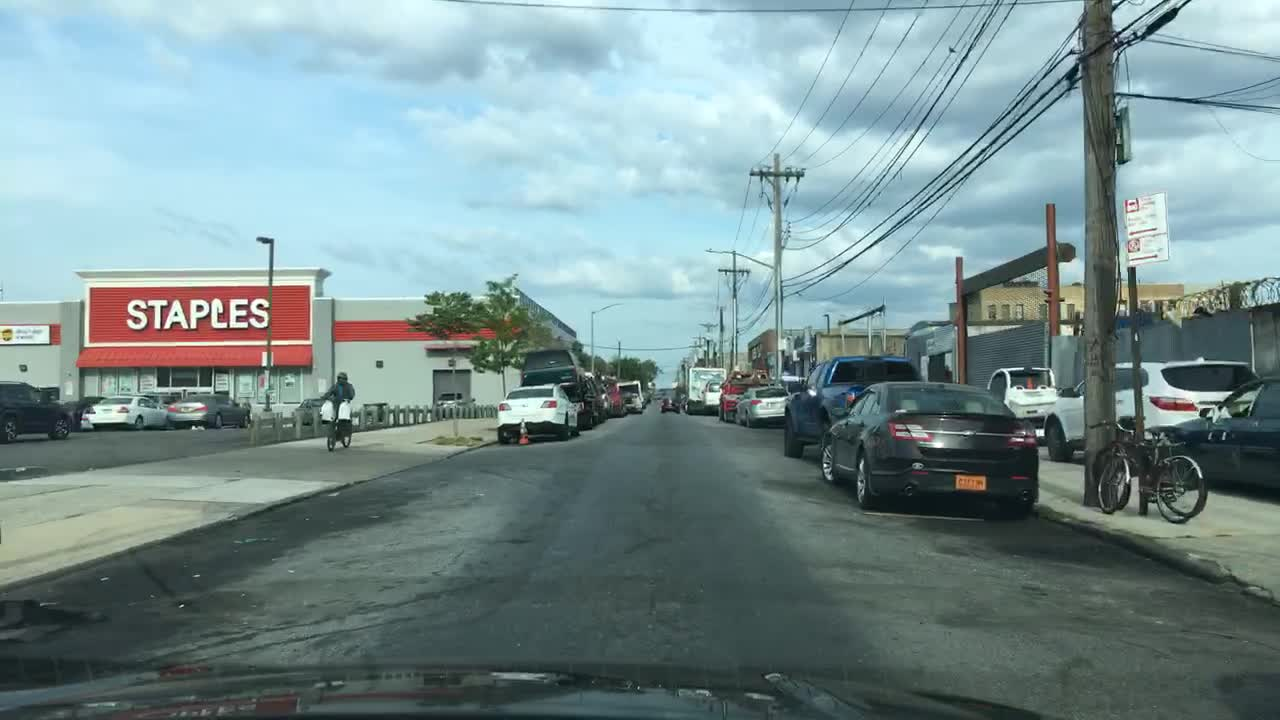bike: (1098, 418, 1211, 522), (1086, 417, 1198, 497), (323, 396, 356, 450)
car: (820, 380, 1043, 522), (1041, 357, 1261, 462), (1137, 376, 1278, 487), (781, 353, 925, 460), (987, 364, 1059, 438), (495, 383, 577, 442), (0, 381, 78, 443), (78, 393, 171, 431), (167, 388, 251, 430), (516, 346, 588, 391), (716, 369, 768, 423), (733, 383, 791, 428), (60, 394, 104, 431), (586, 371, 613, 423), (291, 396, 332, 424), (618, 378, 648, 413), (433, 391, 470, 418), (603, 376, 623, 418), (700, 379, 724, 412), (359, 400, 390, 425), (775, 373, 804, 398), (619, 391, 643, 415), (658, 397, 683, 416), (640, 388, 651, 410), (650, 389, 665, 399)
rider: (320, 369, 355, 431)
traffic sign: (1123, 192, 1171, 237), (1124, 236, 1170, 266), (260, 352, 275, 366)
truck: (529, 373, 604, 432), (684, 366, 717, 416)
